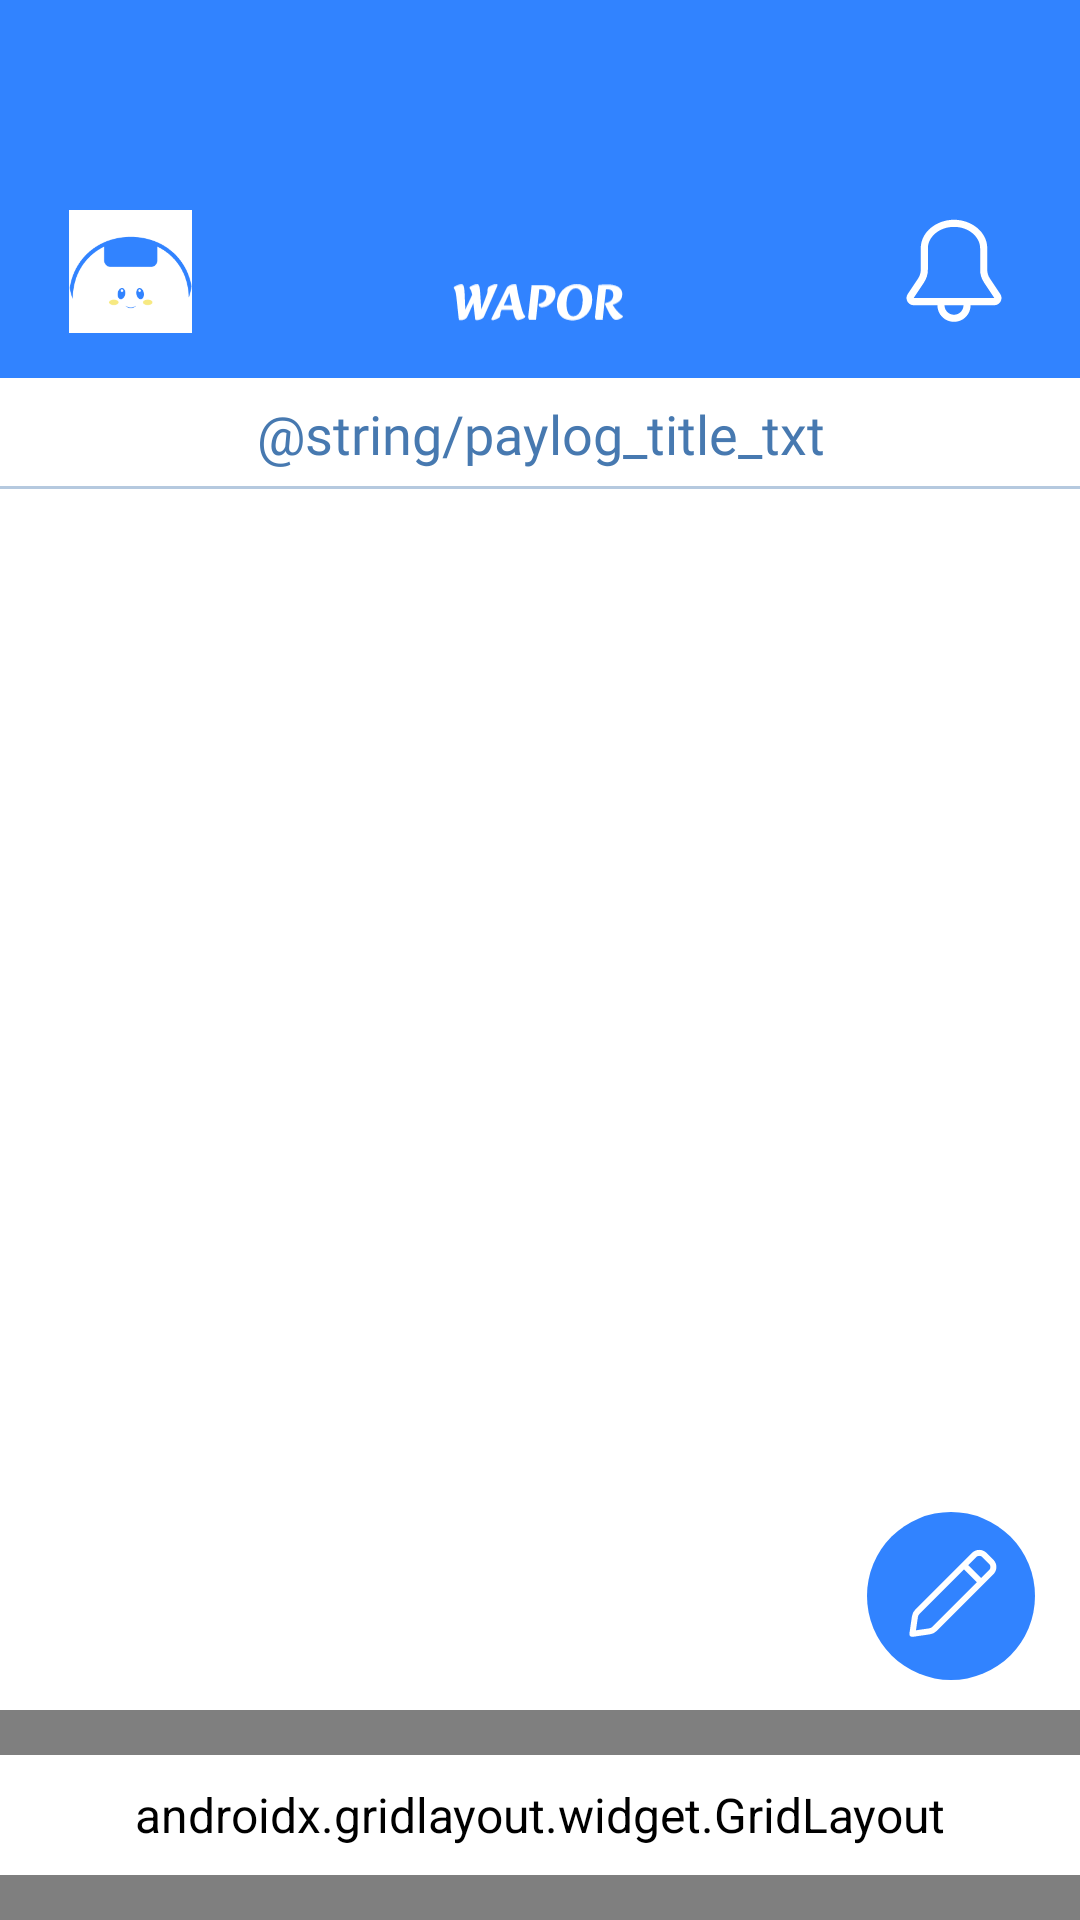

Icons on this 1080 x 1920 Android screen, each with the point to tap as point (x, y):
alarm: point (954, 270)
write: point (951, 1596)
